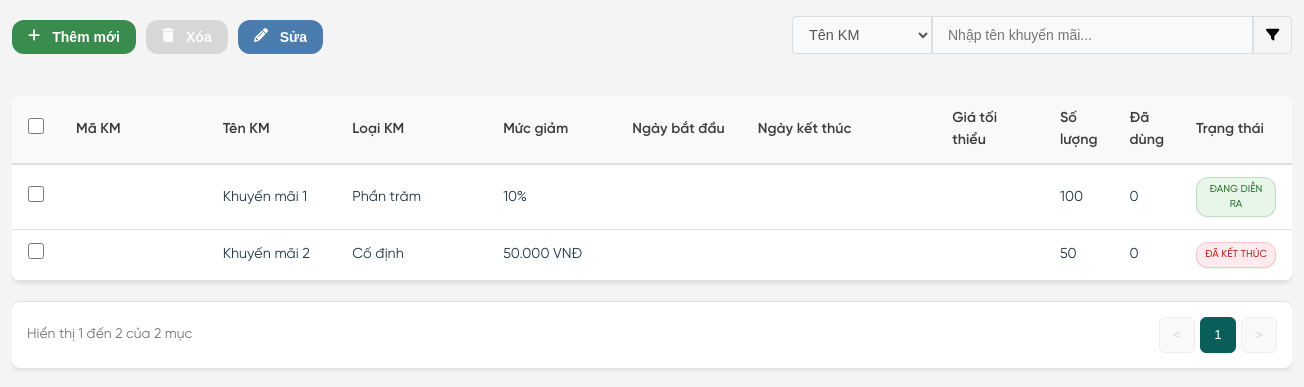
Test: PromotionTable › filters promotions by search term
Expected: the text "Khuyến mãi 1" is shown, x1=207 y1=165 x2=336 y2=230
Note: Đổi sang search theo tên khuyến mãi bằng select box
Select "Tên KM" in the dropdown. click: (862, 35)
box: x1=792 y1=16 x2=932 y2=54
Type "Khuyến mãi 2" into the field with placeholder "Nhập tên khuyến mãi...". click: (1092, 35)
box: x1=932 y1=16 x2=1253 y2=54
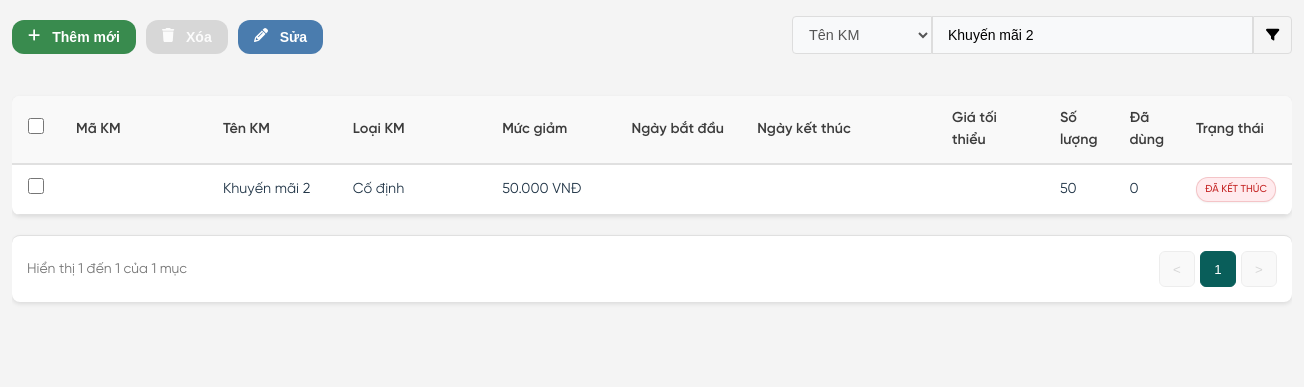
Expected: the text "Khuyến mãi 2" is shown, x1=207 y1=165 x2=337 y2=215
Now the text "Khuyến mãi 1" is gone
